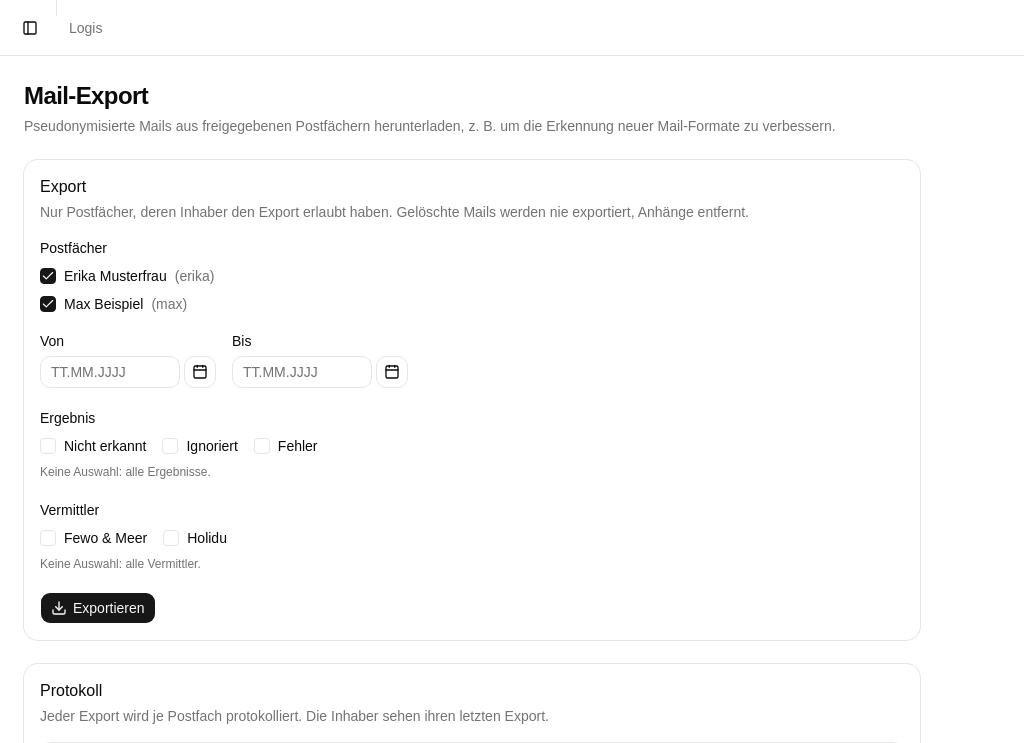
Test: Mail export › shows the message when too many mails match
Click the button "Exportieren". click: (98, 608)
box: x1=40 y1=592 x2=156 y2=624
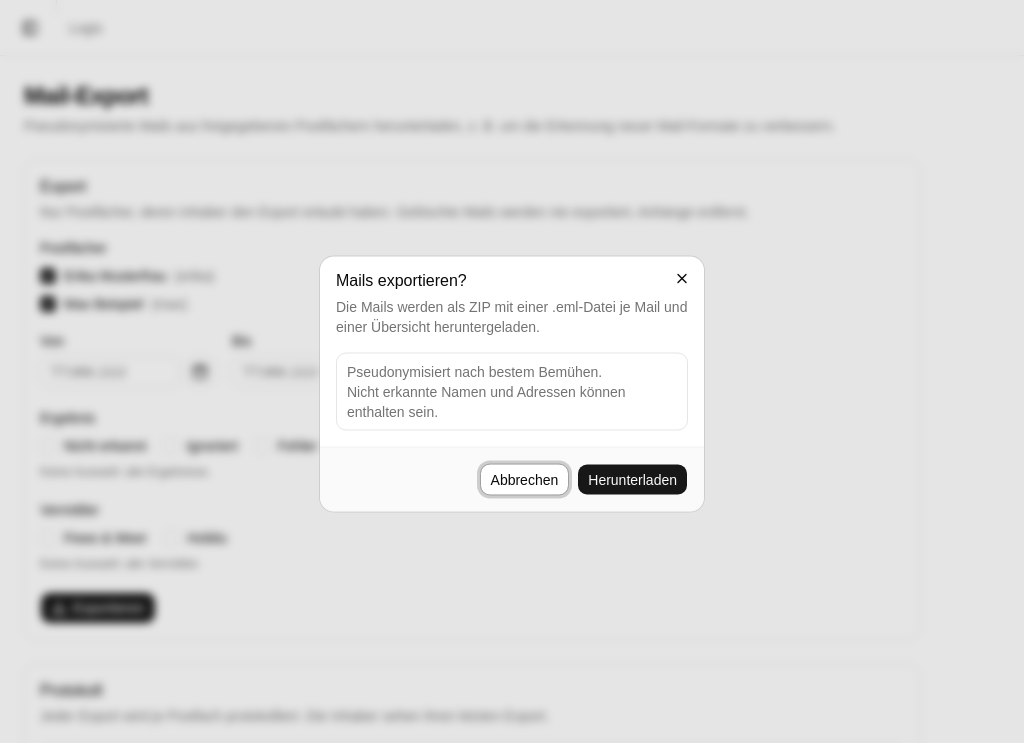
Click the button "Herunterladen". click: (633, 480)
box: x1=577 y1=464 x2=688 y2=496
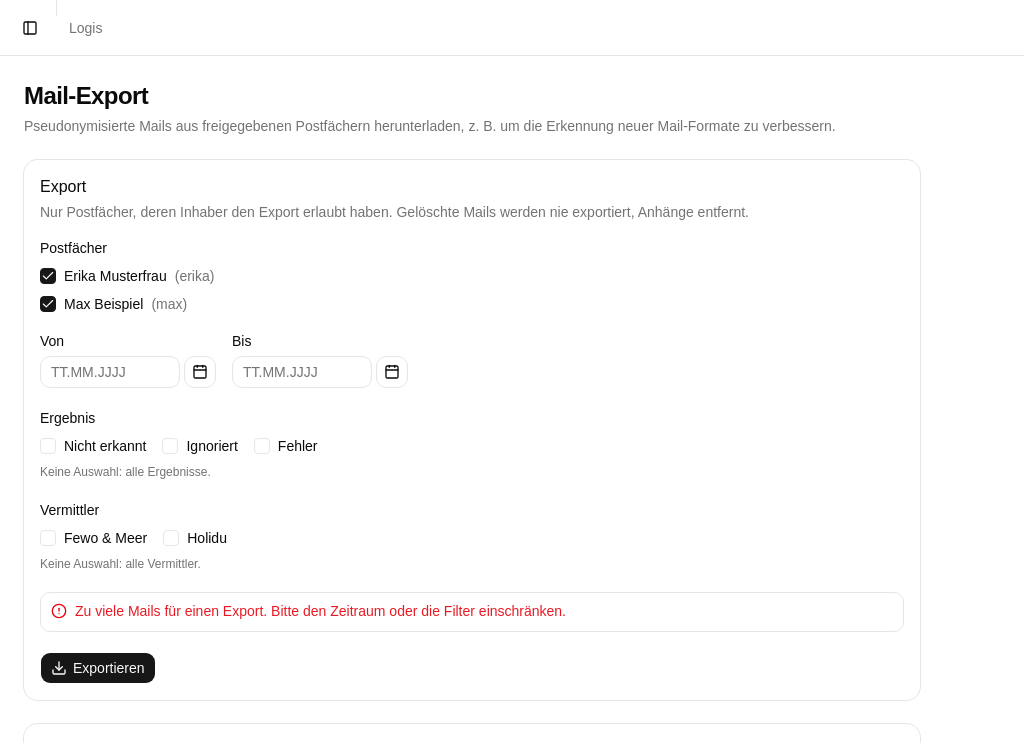
Expected: the text "Zu viele Mails für einen Export" is shown, x1=75 y1=603 x2=566 y2=619
